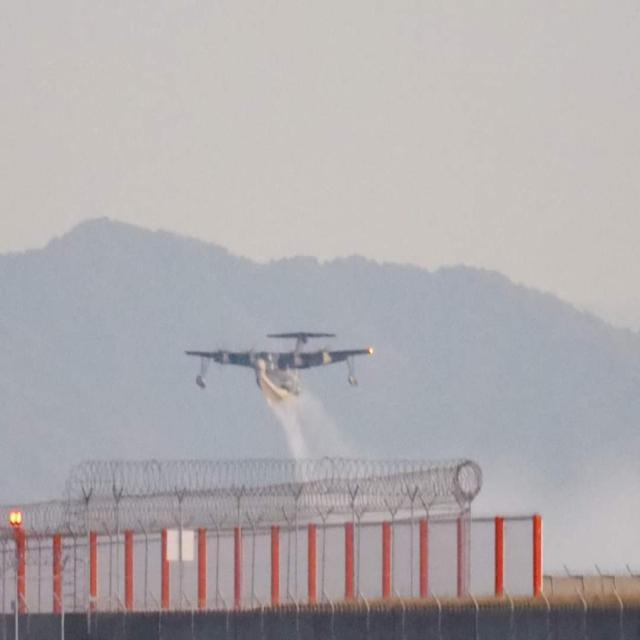MIL_Plane: (185, 330, 373, 405)
